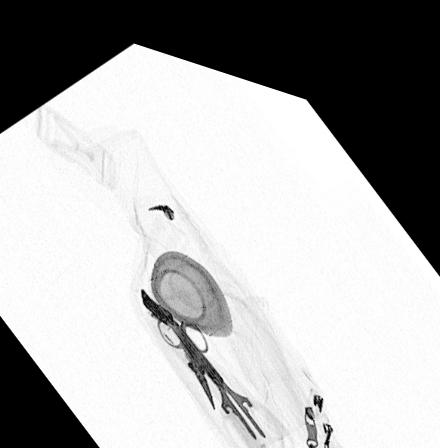Scissors: (167, 306, 299, 448), (155, 304, 219, 400)
